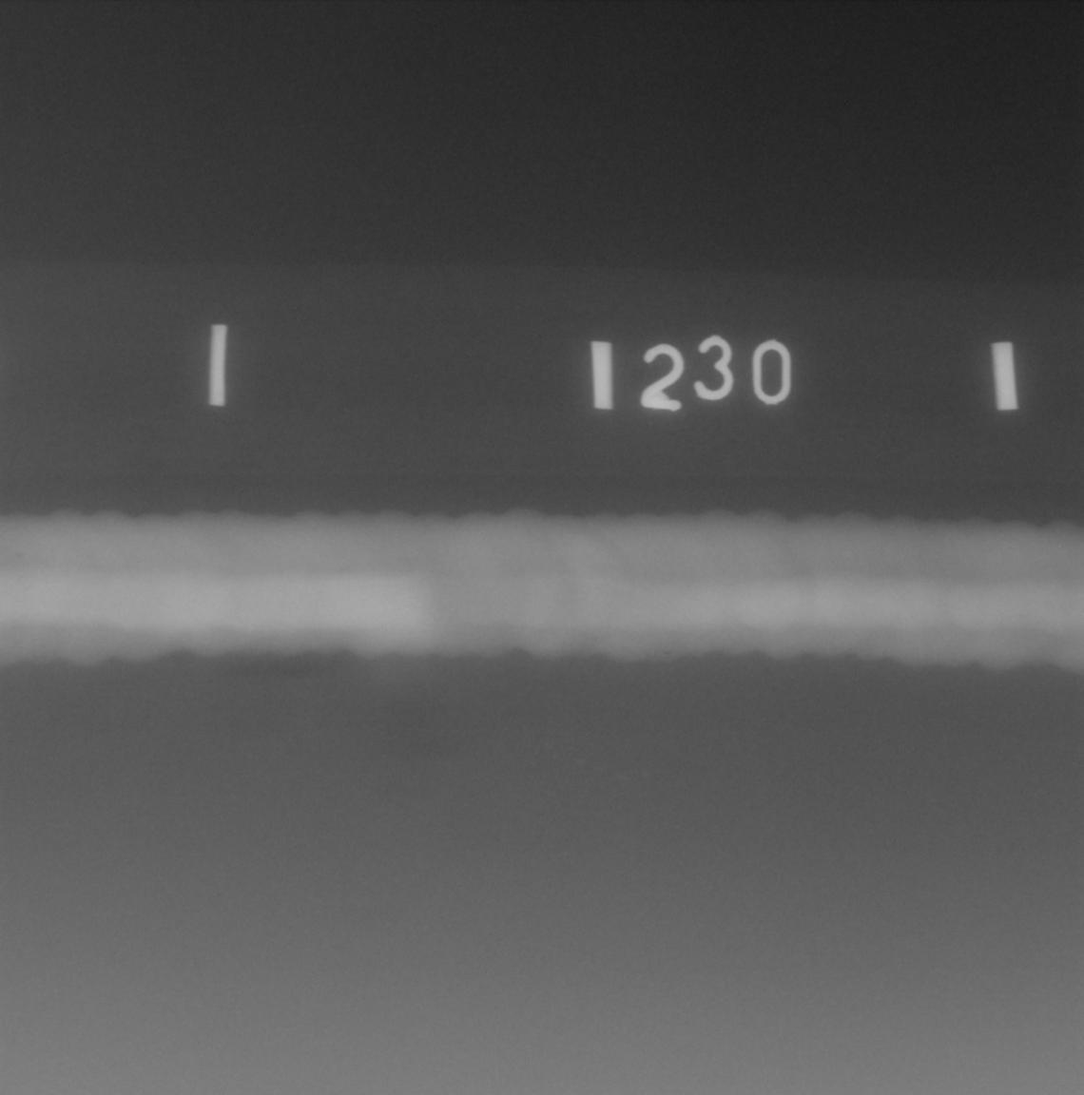Pore/Porosity: (16, 552, 22, 557), (665, 652, 670, 655)
